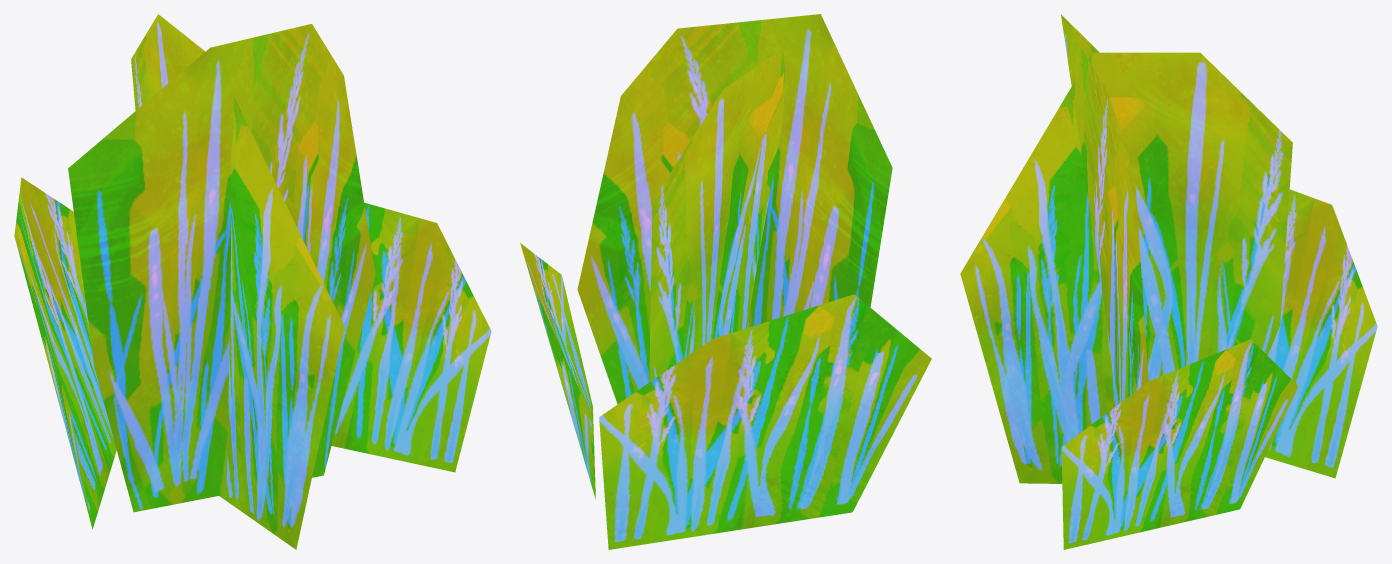
Rendered from SM_Alpha_grass2_WA.fbx.
The picture shows the model from 3 angles, left to right: view 1: azimuth 30°, elevation 25°; view 2: azimuth 150°, elevation 25°; view 3: azimuth 270°, elevation 25°; orthographic projection. The views are drawn at different scales.
Parts seen in each view (by area): view 1: SM_Alpha_grass2_WA_LOD0; view 2: SM_Alpha_grass2_WA_LOD0; view 3: SM_Alpha_grass2_WA_LOD0.
Part boxes in pixels (bbox=[...]): SM_Alpha_grass2_WA_LOD0: bbox=[14, 14, 491, 549]; SM_Alpha_grass2_WA_LOD0: bbox=[520, 14, 931, 549]; SM_Alpha_grass2_WA_LOD0: bbox=[960, 14, 1377, 549].
Size of the model in its own units: 50.64 by 50.25 by 59.17.
